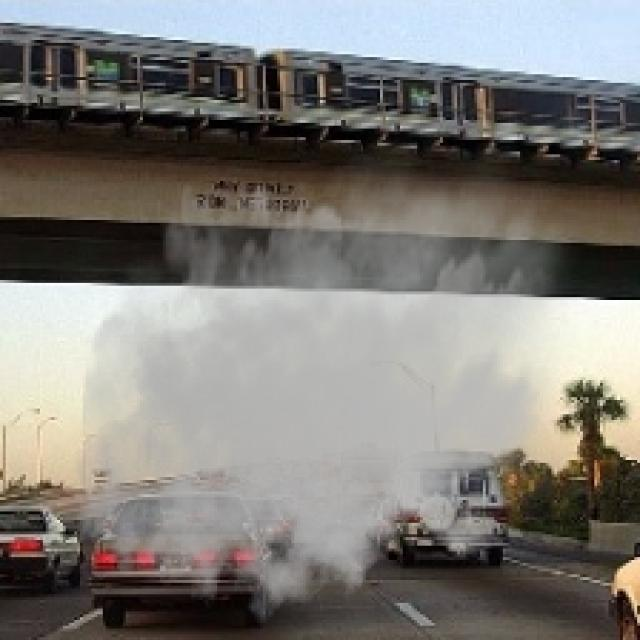smoke: (71, 123, 592, 637)
